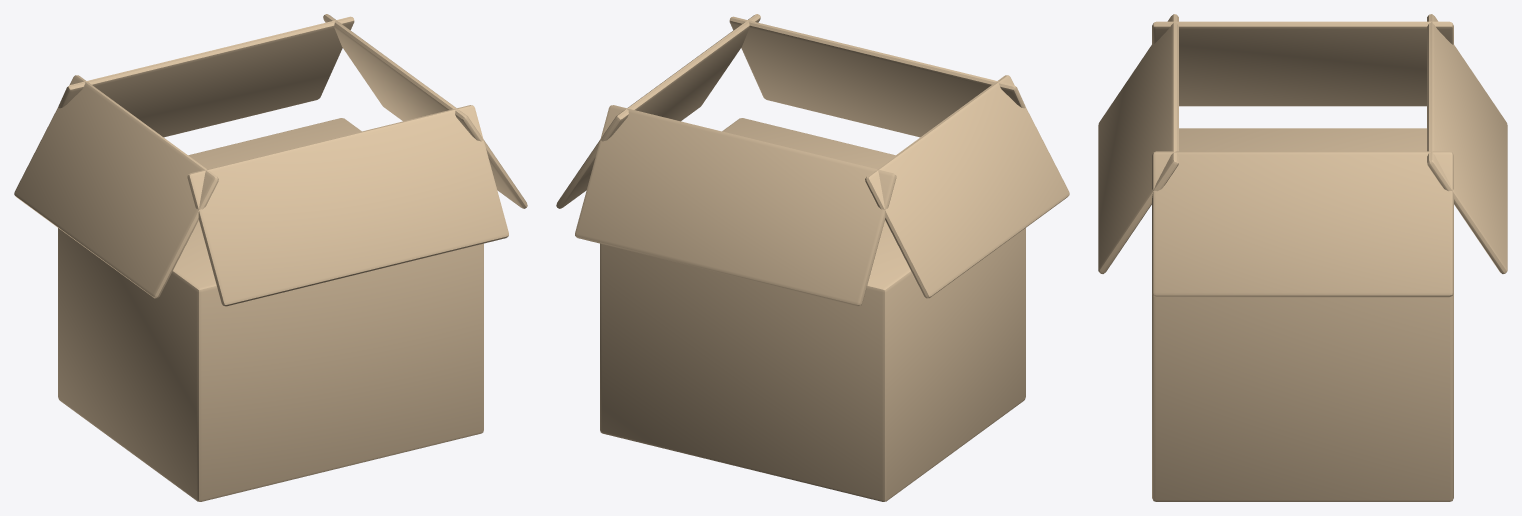
Rendered from carton_open.glb.
3 renders of one model, left to right at view 1: azimuth 30°, elevation 25°; view 2: azimuth 150°, elevation 25°; view 3: azimuth 270°, elevation 25°, orthographic. The views are drawn at different scales.
Visible parts, largest first — view 1: carton_open; view 2: carton_open; view 3: carton_open.
Part boxes in pixels (x1,y1,x2,y2): carton_open: (14, 14, 527, 501); carton_open: (556, 14, 1069, 501); carton_open: (1098, 14, 1507, 501).
Size of the model in its own units: 0.548 by 0.4502 by 0.488.
